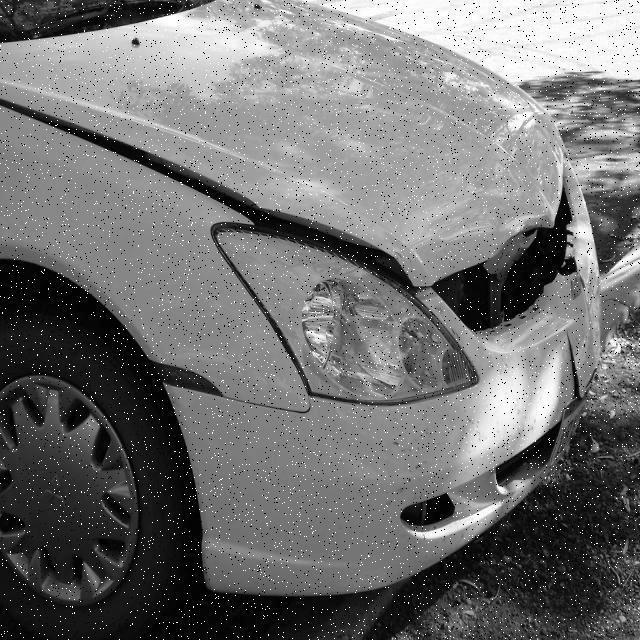front-bumper-dent: (387, 285, 610, 503)
